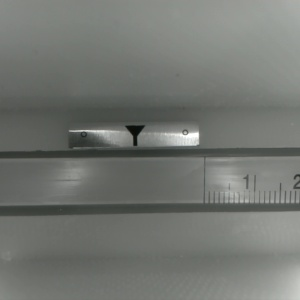1: (243, 175, 249, 190)
2: (292, 173, 300, 189)
finger: (124, 126, 144, 144)
